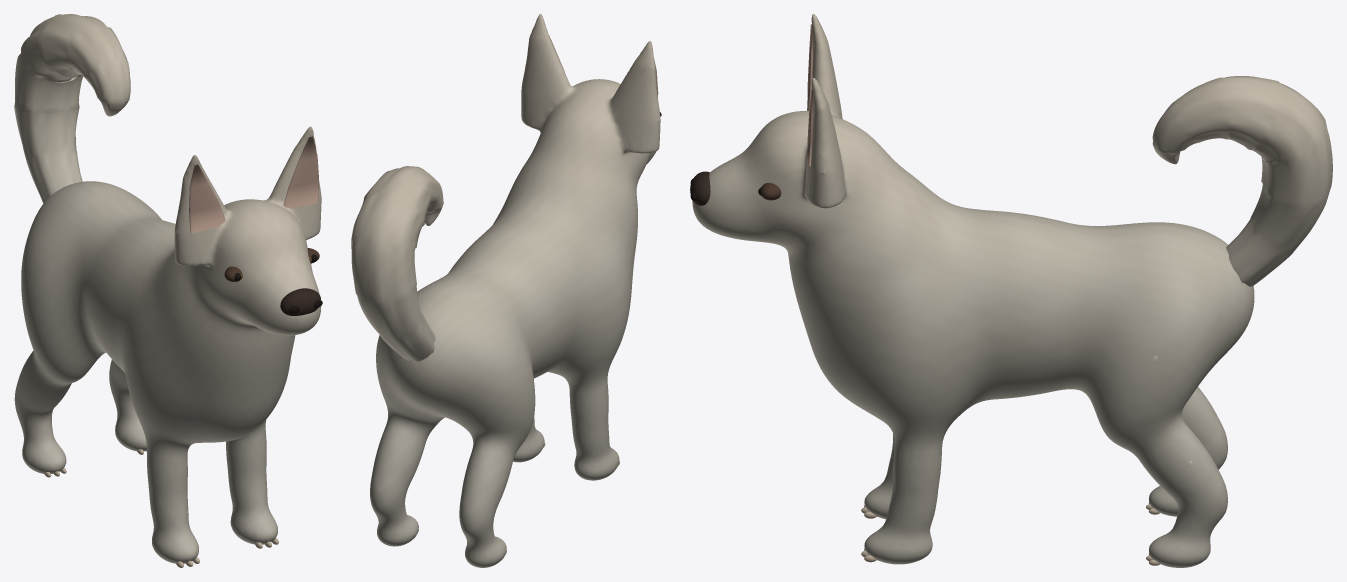
The model's file is jindo.glb.
3 views of the same model, side by side, from view 1: azimuth 30°, elevation 25°; view 2: azimuth 150°, elevation 25°; view 3: azimuth 270°, elevation 25° (orthographic). The views are drawn at different scales.
Visible parts, largest first — view 1: JindoBody, JindoTail, Pinna inset, Pinna inset.001, Nose leather; view 2: JindoBody, JindoTail; view 3: JindoBody, JindoTail.
Part boxes in pixels (bbox=[...]): JindoBody: bbox=[14, 126, 321, 563]; JindoTail: bbox=[14, 14, 130, 203]; Pinna inset: bbox=[189, 164, 225, 232]; Pinna inset.001: bbox=[283, 136, 318, 208]; Nose leather: bbox=[280, 288, 320, 315]; JindoBody: bbox=[370, 14, 660, 567]; JindoTail: bbox=[351, 166, 443, 362]; JindoBody: bbox=[692, 14, 1254, 567]; JindoTail: bbox=[1152, 76, 1332, 287].
Size of the model in its own units: 0.4142 by 1.14 by 1.35.
